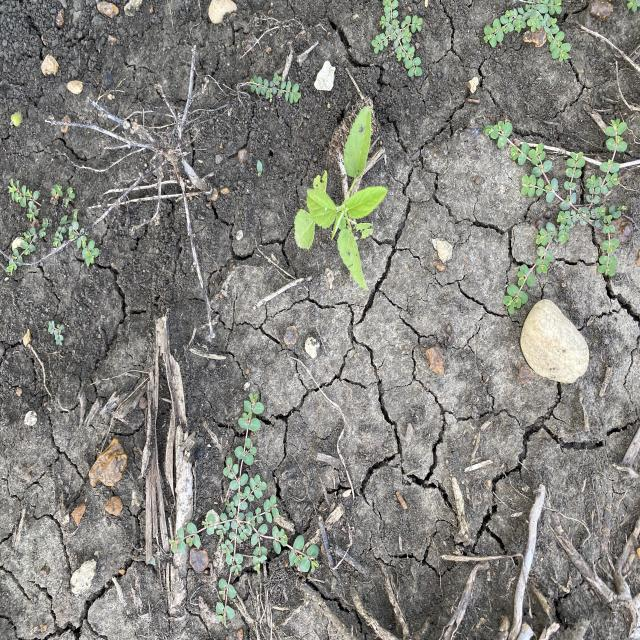PricklySida: (292, 103, 391, 294)
SpottedSpurge: (167, 390, 321, 628), (482, 116, 630, 318), (5, 177, 101, 279), (482, 0, 573, 65), (369, 0, 426, 79), (248, 70, 303, 106), (47, 320, 66, 349)
